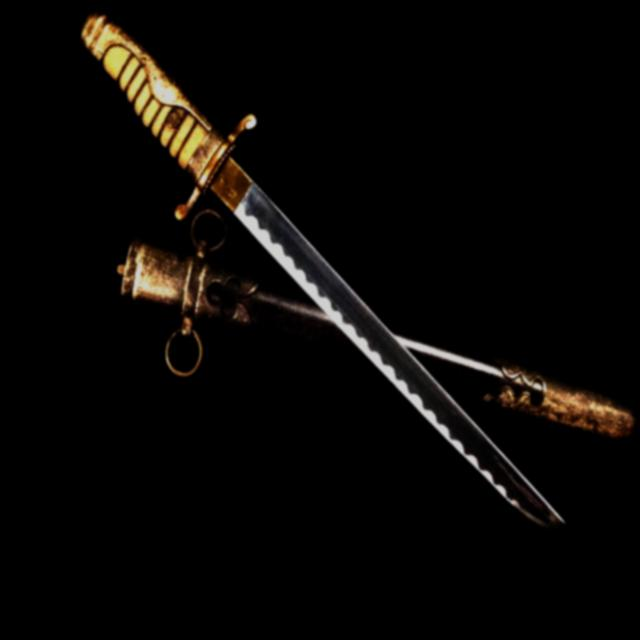short sword: (45, 9, 640, 548)
